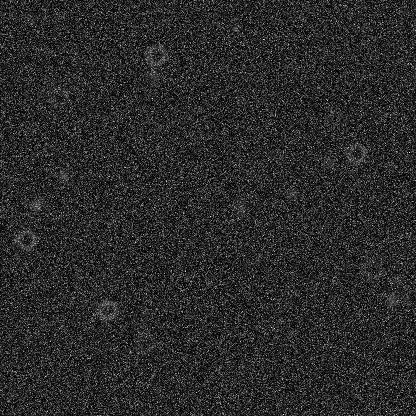Ring: (45, 85, 69, 109), (134, 329, 158, 353), (344, 141, 368, 165), (95, 297, 119, 321), (143, 43, 167, 67), (359, 257, 383, 281), (13, 227, 37, 251)
Spot: (28, 196, 44, 212), (282, 184, 298, 200), (54, 167, 70, 183), (271, 149, 287, 165), (145, 67, 161, 83), (383, 291, 399, 307), (227, 19, 243, 35), (390, 272, 406, 288), (231, 200, 247, 216), (320, 154, 336, 170), (21, 10, 37, 26)
